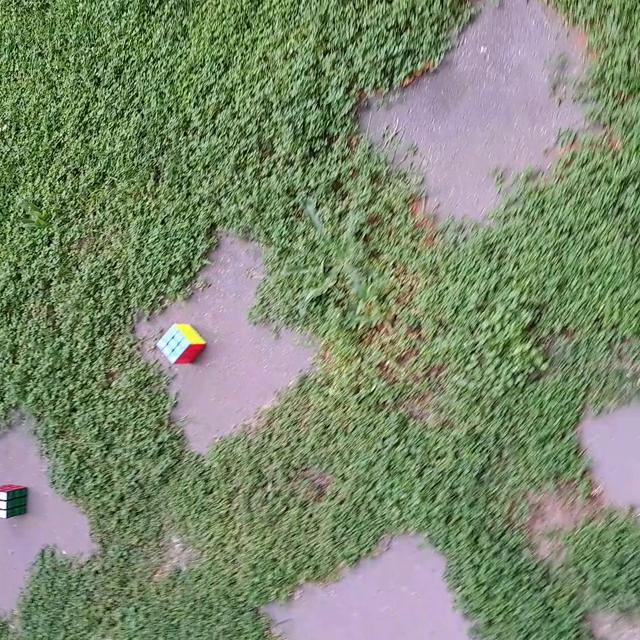rubix_cube: (153, 321, 208, 367), (0, 482, 28, 521)
